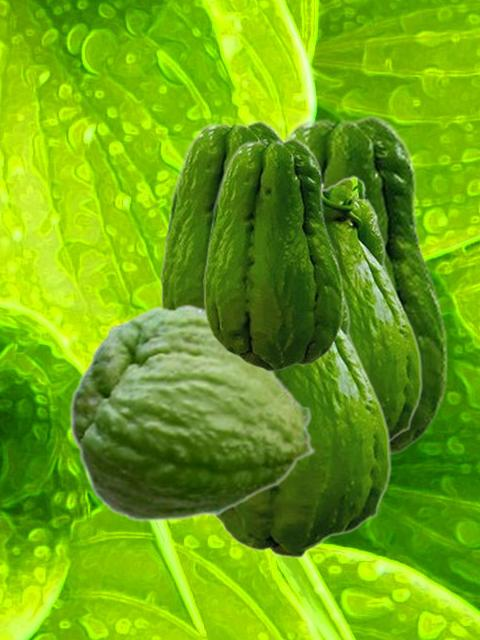sayote: (283, 114, 447, 458), (69, 303, 316, 522), (212, 271, 391, 558), (203, 137, 343, 371), (324, 175, 422, 441), (160, 119, 284, 308)
